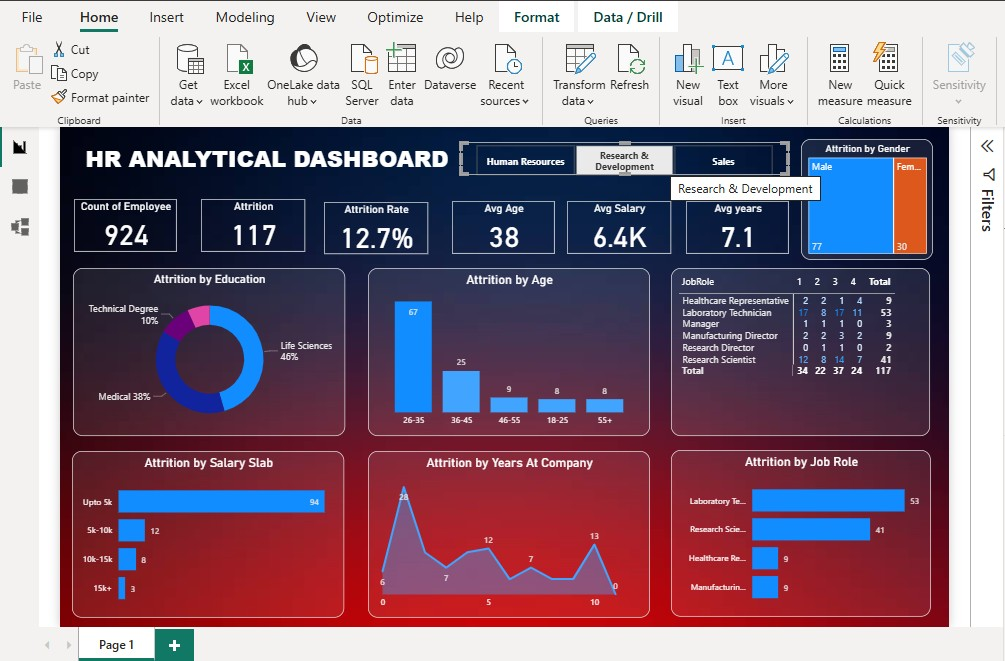

Layout of this report page (visuals, bound fields, positions):
{"tool":"powerbi","page":{"name":"Page 1","canvas":[1280,720],"ordinal":0},"visuals":[{"type":"card","title":"Count of Employee","fields":{"Values":["CountNonNull(HR_Analytics (1).EmpID)"]},"box":[19.5,104,150,75],"z":0},{"type":"card","title":"Attrition","fields":{"Values":["Sum(HR_Analytics (1).AttritionCount)"]},"box":[203,103.7,149.8,76.3],"z":1000},{"type":"card","title":"Attrition Rate","fields":{"Values":["HR_Analytics (1).AttritionRate"]},"box":[380.2,108,149.8,74.9],"z":2000},{"type":"card","title":"Avg Age","fields":{"Values":["Avg(HR_Analytics (1).Age)"]},"box":[564.5,106.6,148.3,76.3],"z":3000},{"type":"card","title":"Avg Salary","fields":{"Values":["Avg(HR_Analytics (1).MonthlyIncome)"]},"box":[730.1,106.6,149.8,76.3],"z":4000},{"type":"card","title":"Avg years","fields":{"Values":["Avg(HR_Analytics (1).YearsAtCompany)"]},"box":[901.4,106.6,148.3,76.3],"z":5000},{"type":"donutChart","title":"Attrition by Education","fields":{"Y":["CountNonNull(HR_Analytics (1).Attrition)"],"Category":["HR_Analytics (1).EducationField"]},"box":[18.7,203,391.7,241.9],"z":6000},{"type":"columnChart","title":"Attrition by Age","fields":{"Category":["HR_Analytics (1).AgeGroup"],"Y":["Sum(HR_Analytics (1).AttritionCount)"]},"box":[443.5,203,406.1,241.9],"z":7000},{"type":"pivotTable","fields":{"Rows":["HR_Analytics (1).JobRole"],"Columns":["HR_Analytics (1).JobSatisfaction"],"Values":["Sum(HR_Analytics (1).AttritionCount)"]},"box":[879.8,203,373,241.9],"z":8000},{"type":"barChart","title":"Attrition by Salary Slab","fields":{"Category":["HR_Analytics (1).SalarySlab"],"Y":["Sum(HR_Analytics (1).AttritionCount)"]},"box":[17.3,466.6,391.7,240.5],"z":9000},{"type":"barChart","title":"Attrition by Job Role","fields":{"Y":["Sum(HR_Analytics (1).AttritionCount)"],"Category":["HR_Analytics (1).JobRole"]},"box":[879.8,465.1,374.4,240.5],"z":10000},{"type":"areaChart","title":"Attrition by Years At Company","fields":{"Category":["HR_Analytics (1).YearsAtCompany"],"Y":["Sum(HR_Analytics (1).AttritionCount)"]},"box":[443.5,466.6,406.1,240.5],"z":11000},{"type":"treemap","title":"Attrition by Gender","fields":{"Group":["HR_Analytics (1).Gender"],"Values":["Sum(HR_Analytics (1).AttritionCount)"]},"box":[1067,17.3,190.1,174.2],"z":12000},{"type":"textbox","box":[20.2,17.3,555.8,72],"z":13000},{"type":"slicer","fields":{"Values":["HR_Analytics (1).Department"]},"box":[576,21.6,473.8,47.5],"z":14000}]}

Visuals, with their boxes on the page's 1280x720 design canvas (x1, y1, x2, y2). These are canvas units, not pixel positions in the 1005x661 screenshot, which may show the page scaled, cropped or inside an application window:
"Count of Employee" card: bbox=(20, 104, 170, 179)
"Attrition" card: bbox=(203, 104, 353, 180)
"Attrition Rate" card: bbox=(380, 108, 530, 183)
"Avg Age" card: bbox=(564, 107, 713, 183)
"Avg Salary" card: bbox=(730, 107, 880, 183)
"Avg years" card: bbox=(901, 107, 1050, 183)
"Attrition by Education" donutChart: bbox=(19, 203, 410, 445)
"Attrition by Age" columnChart: bbox=(444, 203, 850, 445)
pivotTable - HR_Analytics (1).JobRole x HR_Analytics (1).JobSatisfaction: bbox=(880, 203, 1253, 445)
"Attrition by Salary Slab" barChart: bbox=(17, 467, 409, 707)
"Attrition by Job Role" barChart: bbox=(880, 465, 1254, 706)
"Attrition by Years At Company" areaChart: bbox=(444, 467, 850, 707)
"Attrition by Gender" treemap: bbox=(1067, 17, 1257, 192)
textbox: bbox=(20, 17, 576, 89)
slicer - HR_Analytics (1).Department: bbox=(576, 22, 1050, 69)
